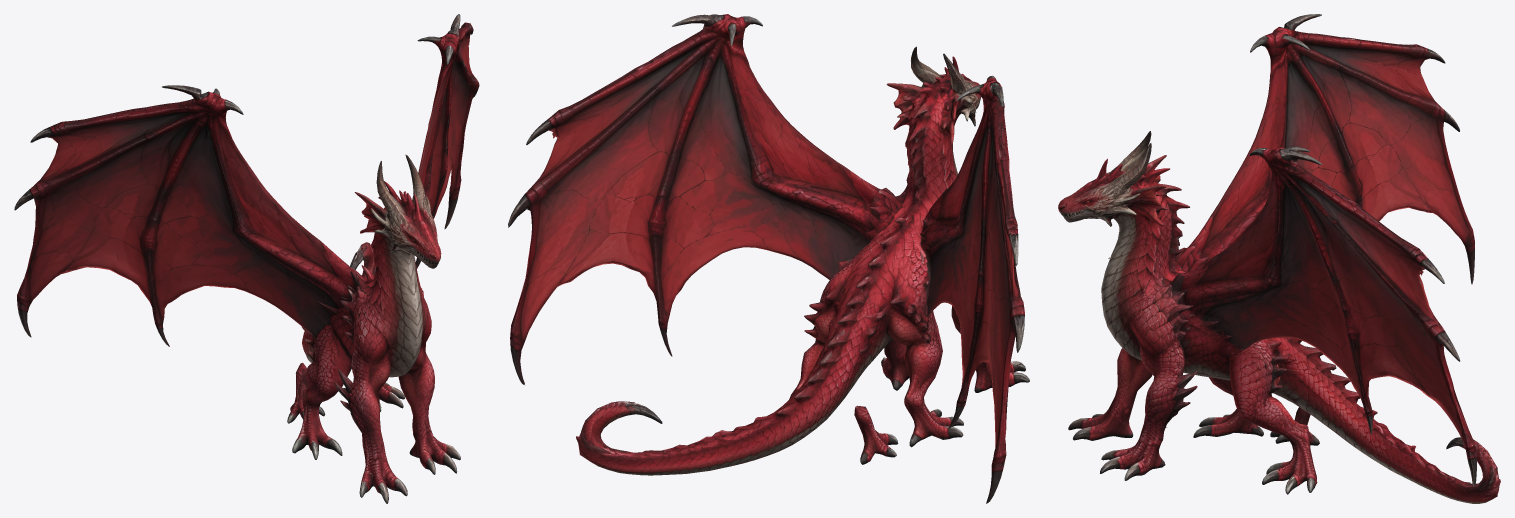
3 views of the same model, side by side, from view 1: azimuth 30°, elevation 25°; view 2: azimuth 150°, elevation 25°; view 3: azimuth 270°, elevation 25° (orthographic). The views are drawn at different scales.
Visible parts, largest first — view 1: tripo_node_f053437e-855e-445c-bd1e-d1afae03f24a; view 2: tripo_node_f053437e-855e-445c-bd1e-d1afae03f24a; view 3: tripo_node_f053437e-855e-445c-bd1e-d1afae03f24a.
Part boxes in pixels (bbox=[...]): tripo_node_f053437e-855e-445c-bd1e-d1afae03f24a: bbox=[14, 14, 479, 503]; tripo_node_f053437e-855e-445c-bd1e-d1afae03f24a: bbox=[508, 14, 1029, 503]; tripo_node_f053437e-855e-445c-bd1e-d1afae03f24a: bbox=[1058, 14, 1500, 503].
Size of the model in its own units: 0.9779 by 0.7324 by 0.7906.
1 material, 1 textured.
